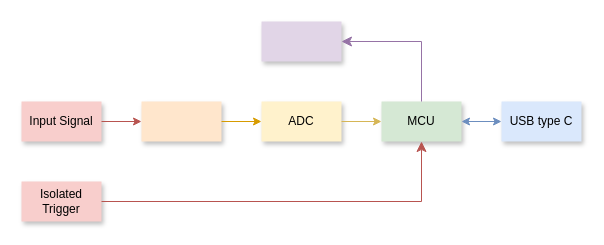
Image size: 604x245. Some labels were removed from this diagram. The shapes that lost their labels are listed below. From the top down, each one's centre as x and y in pixels, then its label:
the point at 302,42: LED
the point at 182,122: FDA
